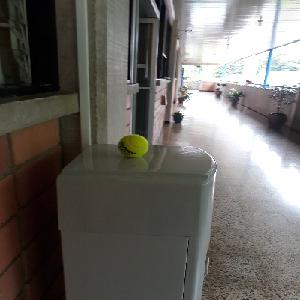Ball: (117, 135, 148, 159)
